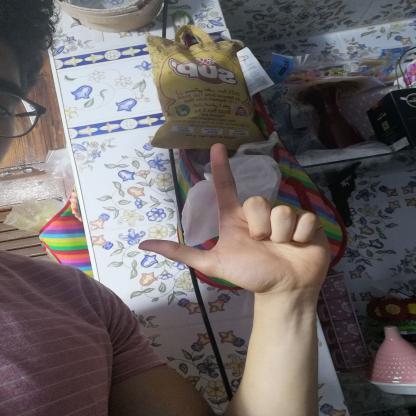LAAM: (117, 133, 358, 309)
